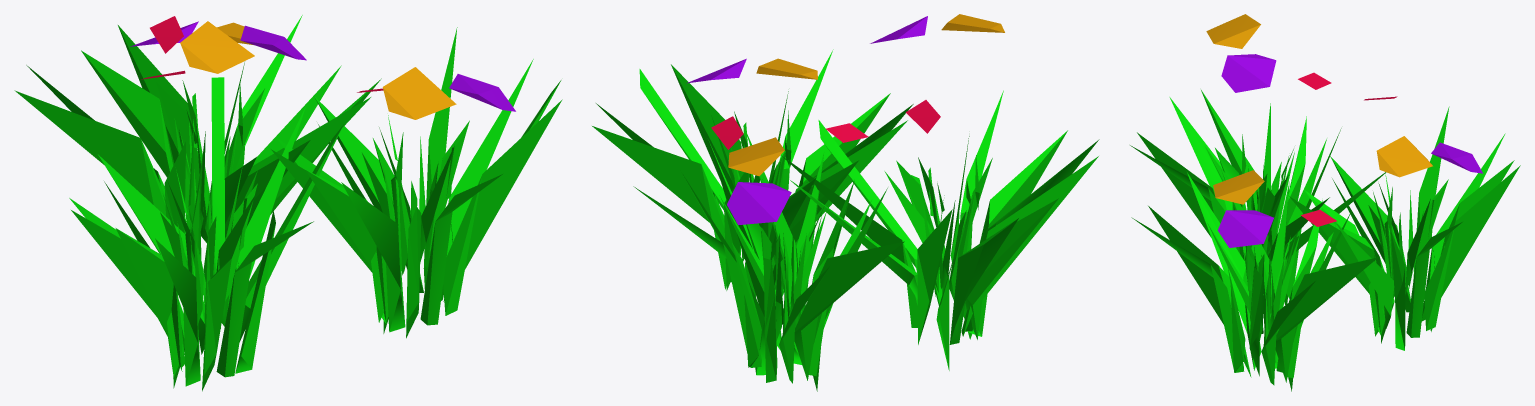
Rendered from cvece1.fbx.
3 renders of one model, left to right at view 1: azimuth 30°, elevation 25°; view 2: azimuth 150°, elevation 25°; view 3: azimuth 270°, elevation 25°, orthographic. The views are drawn at different scales.
Parts seen in each view (by area): view 1: cvece_2; view 2: cvece_2; view 3: cvece_2.
Boxes of the visible parts, left/top/right/bottom form: cvece_2: left=14, top=15, right=562, bottom=391; cvece_2: left=592, top=14, right=1099, bottom=391; cvece_2: left=1130, top=14, right=1520, bottom=391.
Bounding box in the file's own units: 75.16 × 54.71 × 66.44.
